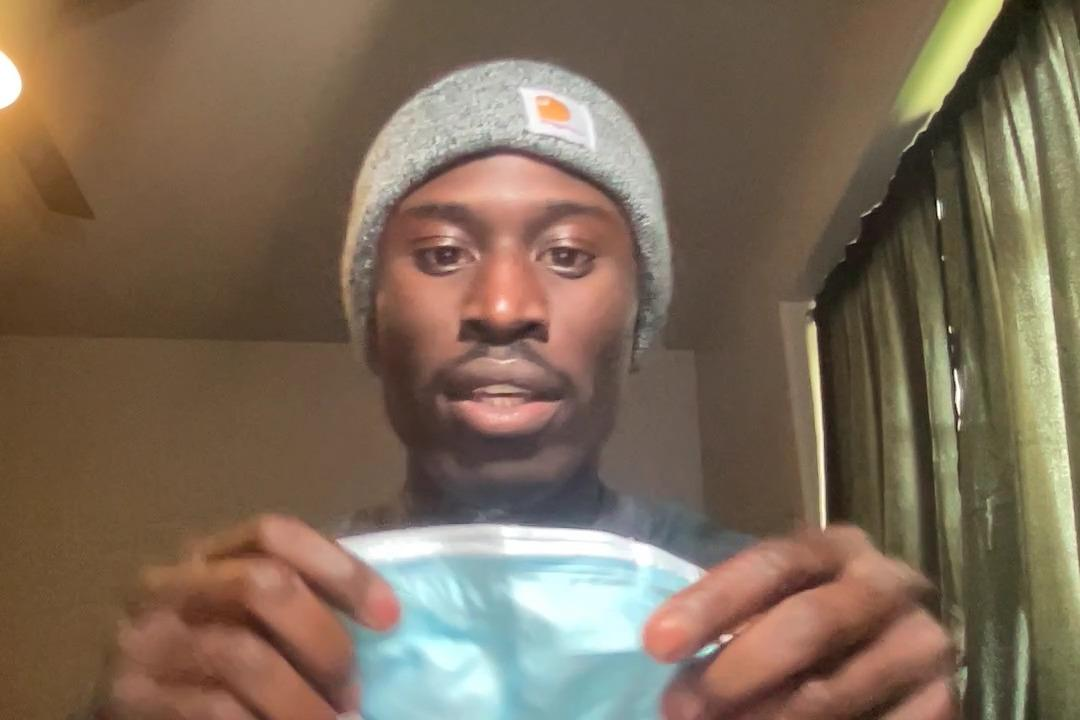face: (345, 139, 647, 516)
